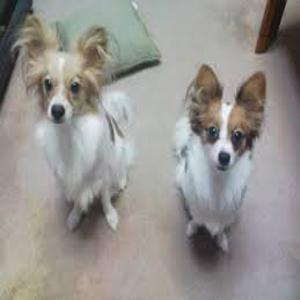yell: (12, 12, 134, 231)
